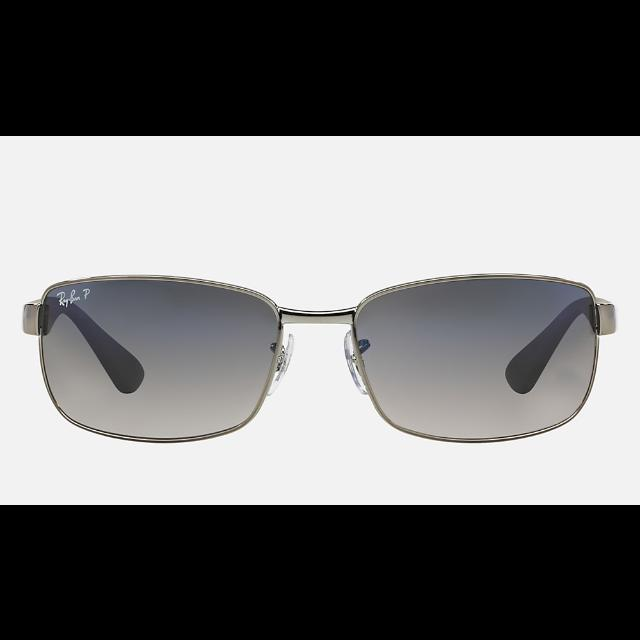Sunglasses: (24, 273, 616, 442)
